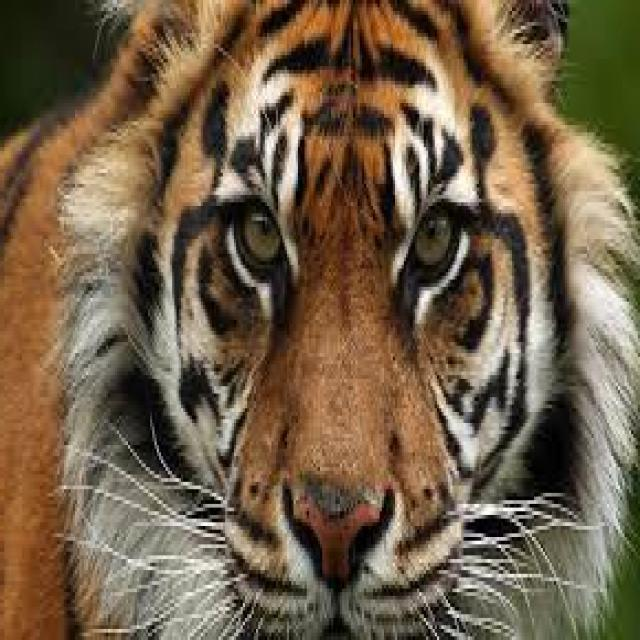tiger: (2, 0, 640, 636)
